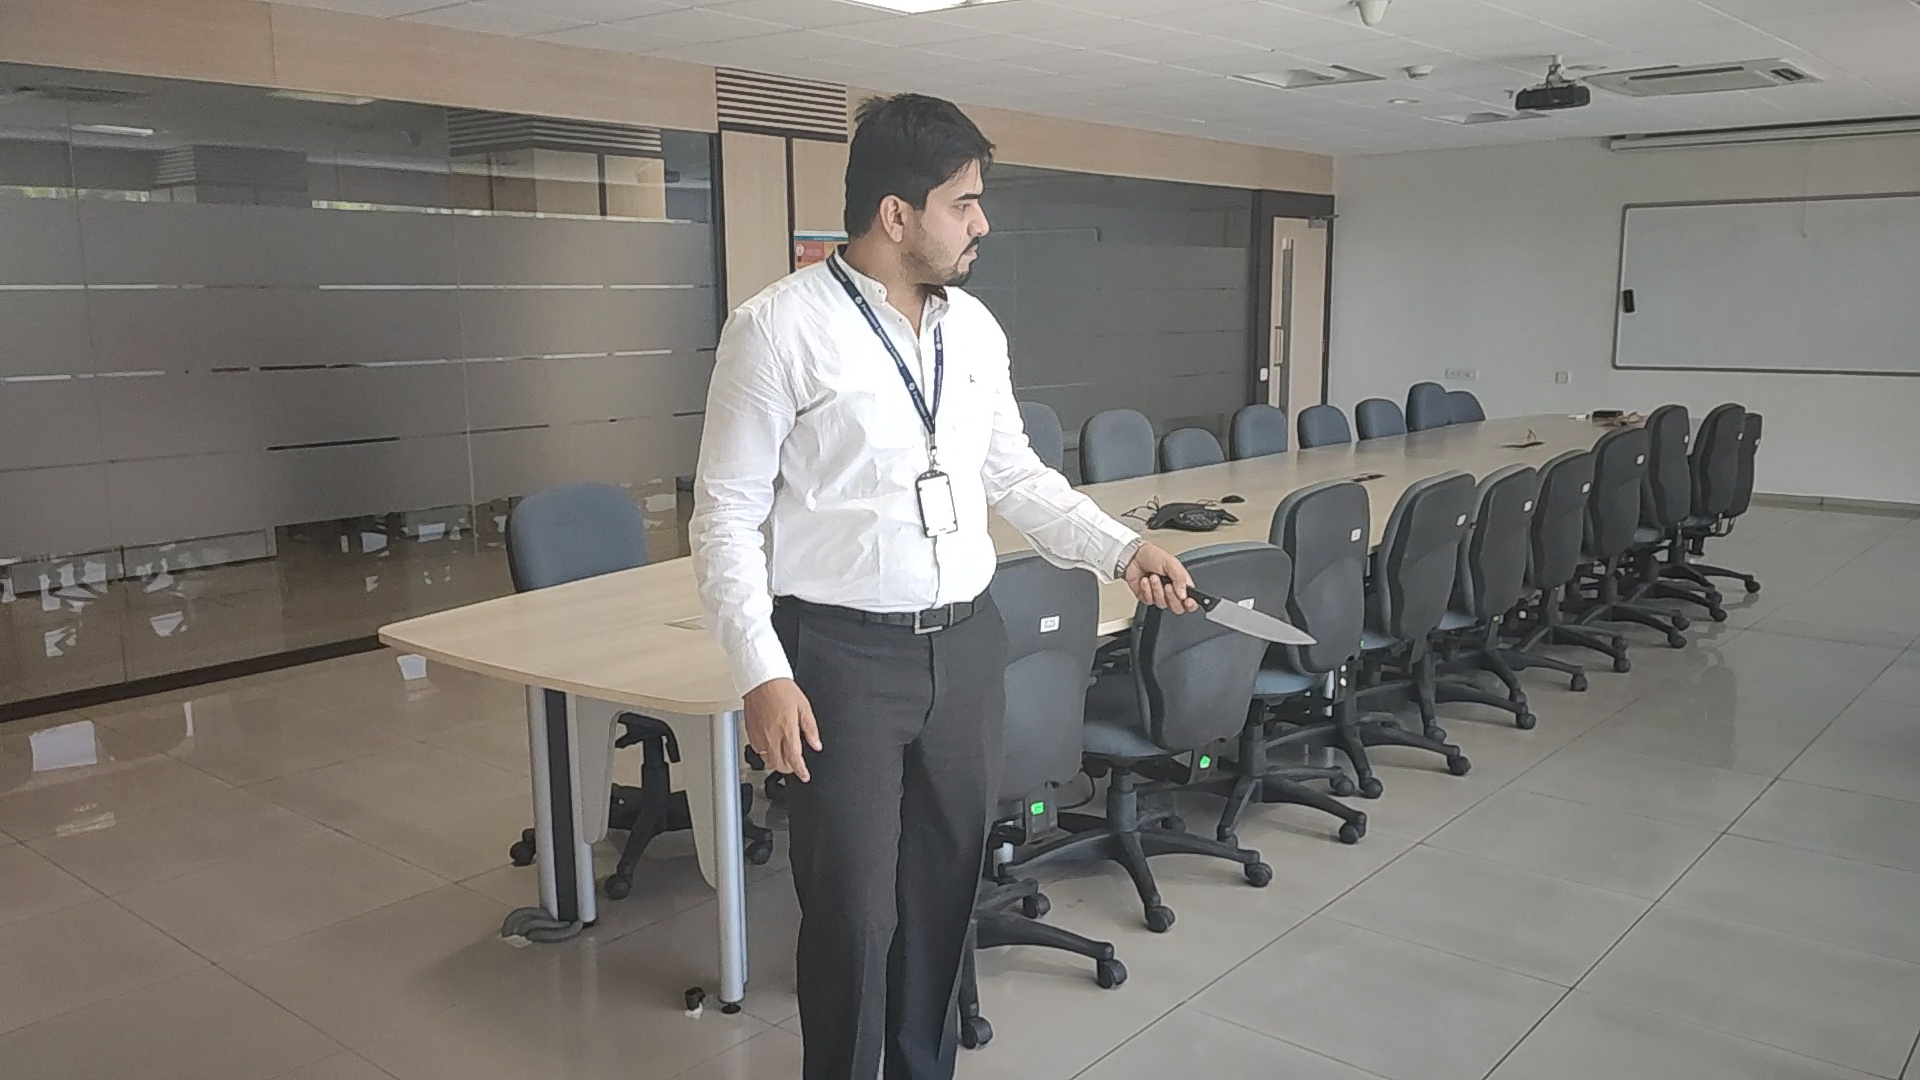knife: (1200, 589, 1317, 646)
